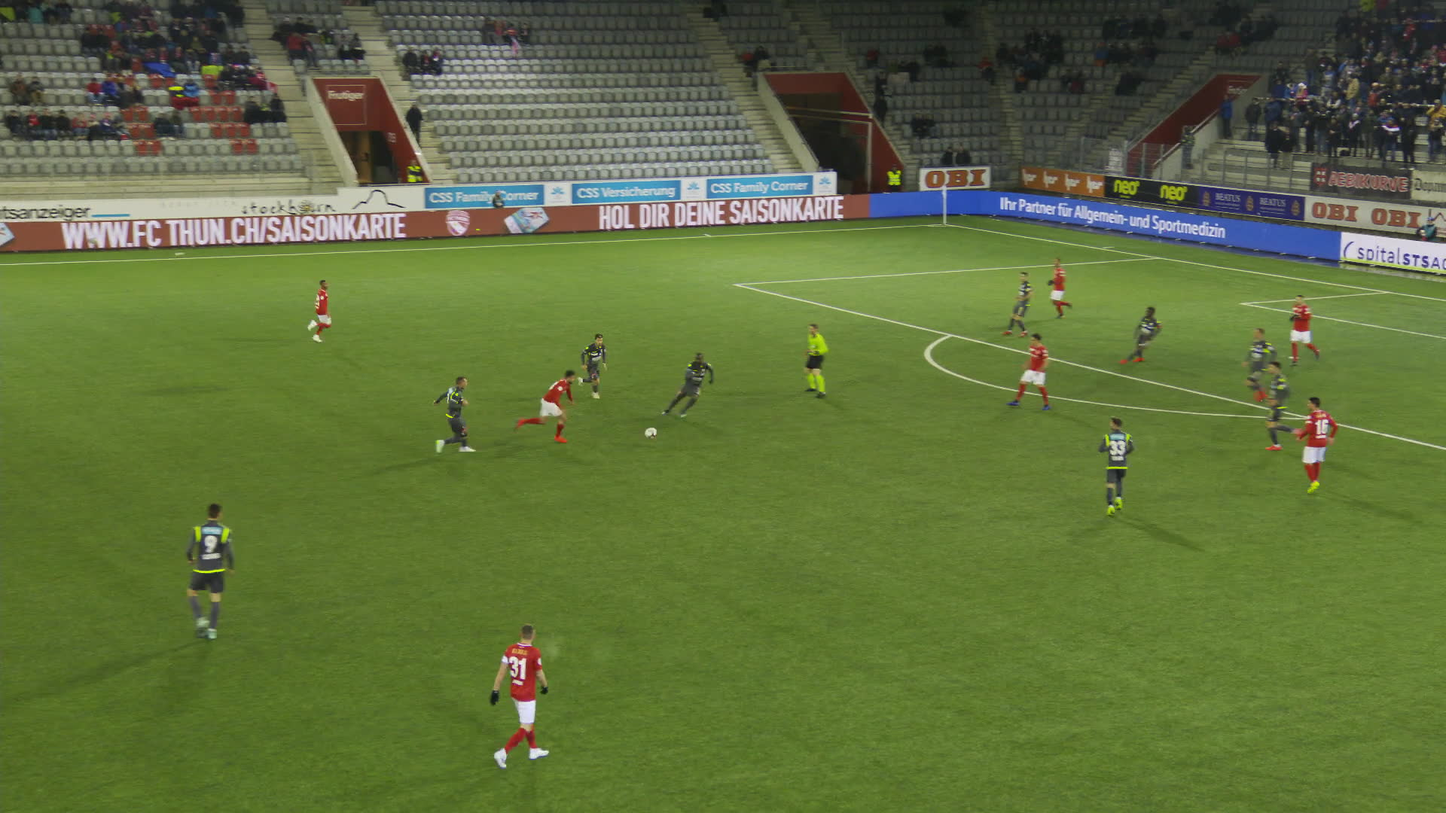ball: (639, 423, 654, 437)
player: (488, 621, 555, 766), (185, 501, 247, 641), (516, 370, 584, 446), (1255, 359, 1311, 451), (1298, 395, 1343, 493), (1100, 416, 1141, 516), (428, 374, 477, 457), (665, 350, 719, 418), (1017, 332, 1061, 413), (1247, 326, 1292, 403), (1128, 299, 1173, 368), (569, 331, 613, 400), (1289, 293, 1323, 367), (300, 279, 338, 344), (1049, 254, 1084, 320), (1009, 270, 1041, 337)
referee: (807, 318, 835, 398)
